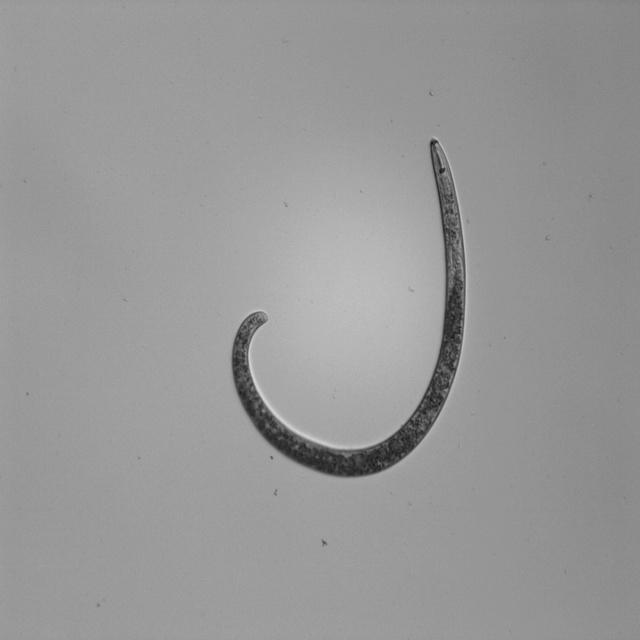Helicotylenchus: (216, 137, 474, 494)
